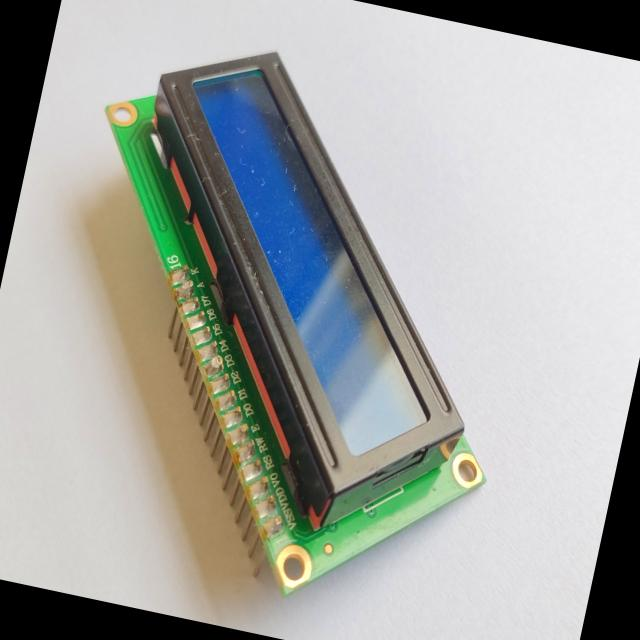lcd: (72, 26, 535, 558)
